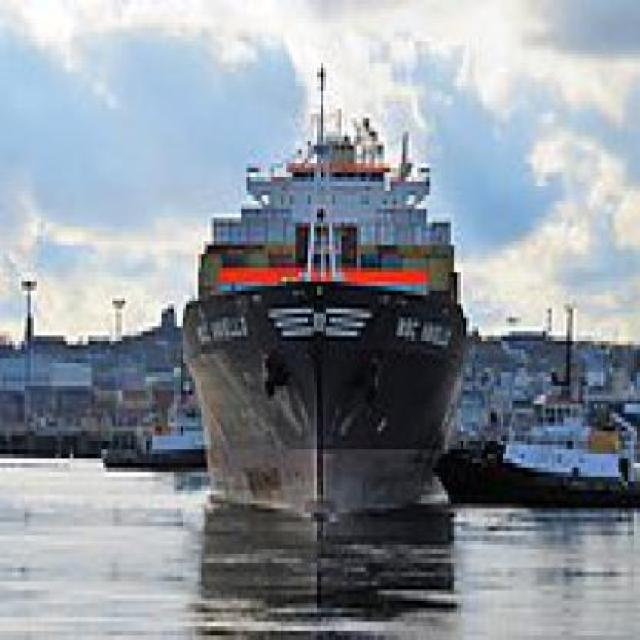container: (173, 54, 496, 517)
